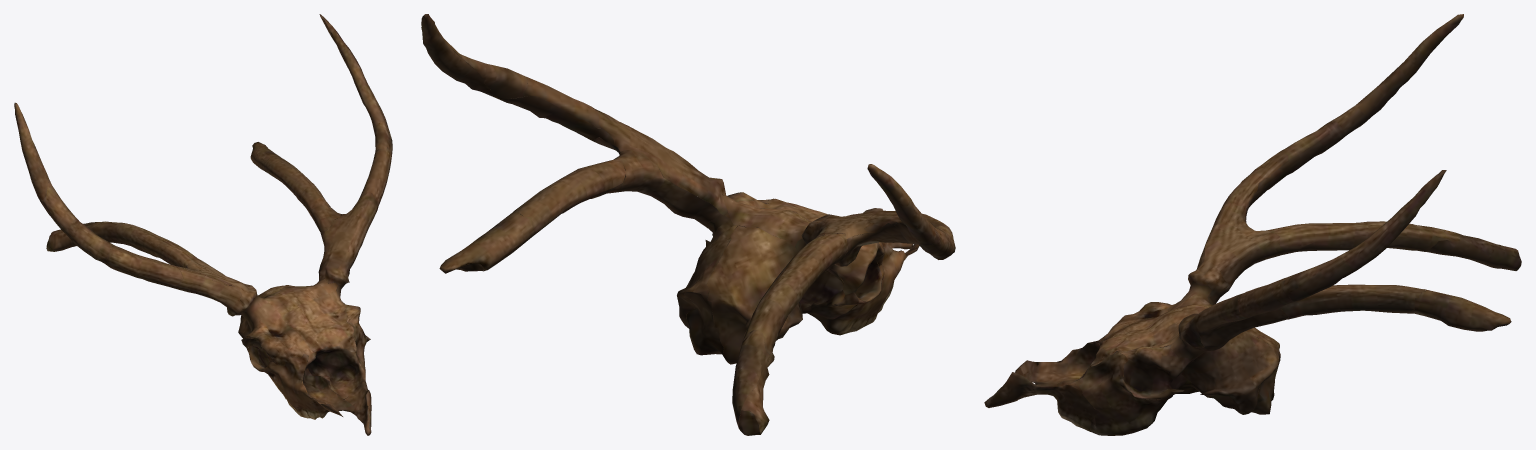
3 views of the same model, side by side, from view 1: azimuth 30°, elevation 25°; view 2: azimuth 150°, elevation 25°; view 3: azimuth 270°, elevation 25° (orthographic). The views are drawn at different scales.
Visible parts, largest first — view 1: Hapleidoceros_LP.004; view 2: Hapleidoceros_LP.004; view 3: Hapleidoceros_LP.004.
Part boxes in pixels (box(x1,y1,x2,y2)): Hapleidoceros_LP.004: box(14, 14, 392, 435); Hapleidoceros_LP.004: box(421, 14, 955, 435); Hapleidoceros_LP.004: box(984, 14, 1521, 435).
Bounding box in the file's own units: 0.4521 × 0.3495 × 0.5129.
1 material, 1 textured.
